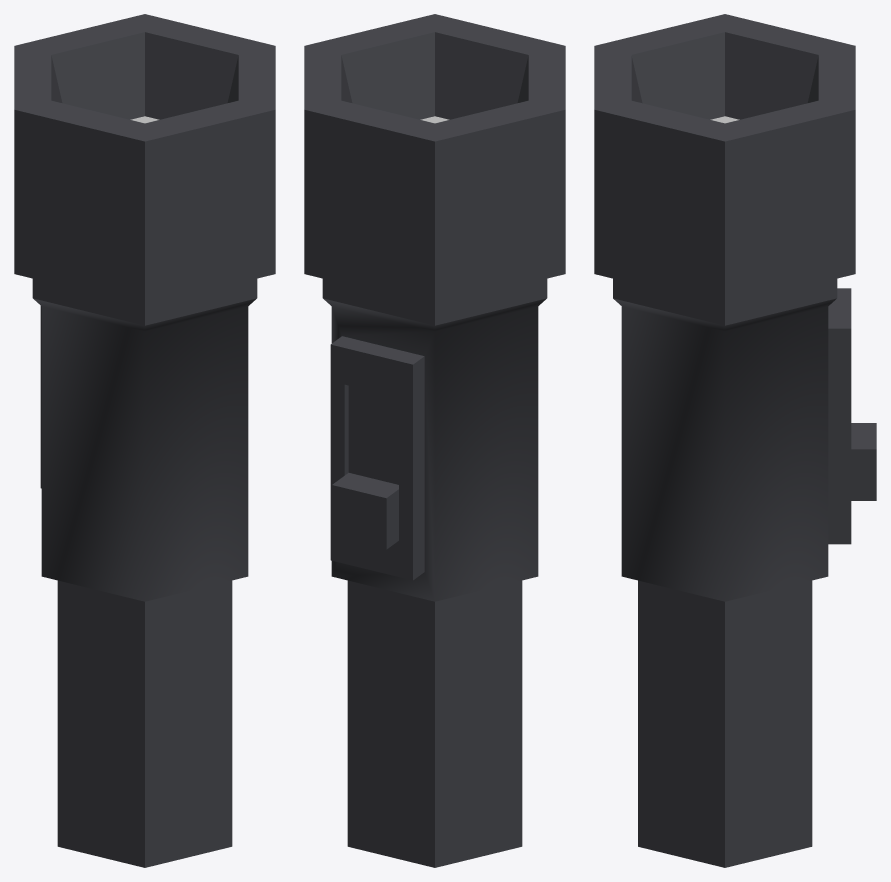
File: flashlight.fbx
3 renders of one model, left to right at view 1: azimuth 30°, elevation 25°; view 2: azimuth 150°, elevation 25°; view 3: azimuth 270°, elevation 25°, orthographic.
Visible parts, largest first — view 1: Cone001; view 2: Cone001, Group001; view 3: Cone001, Group001.
Boxes of the visible parts, box(x1,y1,x2,y2) form: Cone001: box(14, 14, 275, 867); Cone001: box(304, 14, 565, 867); Group001: box(332, 116, 449, 549); Cone001: box(594, 14, 855, 867); Group001: box(710, 116, 876, 500).
Size of the model in its own units: 15.19 by 41.51 by 14.2.
